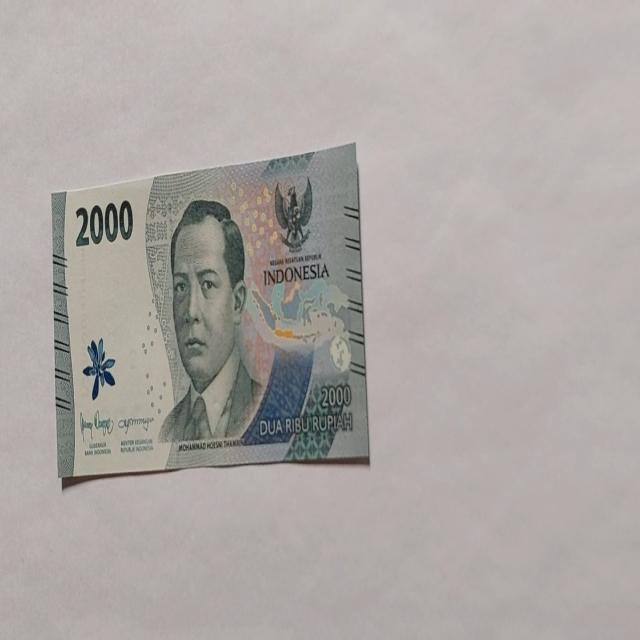dua ribu rupiah: (52, 142, 370, 482), (157, 197, 264, 450)
